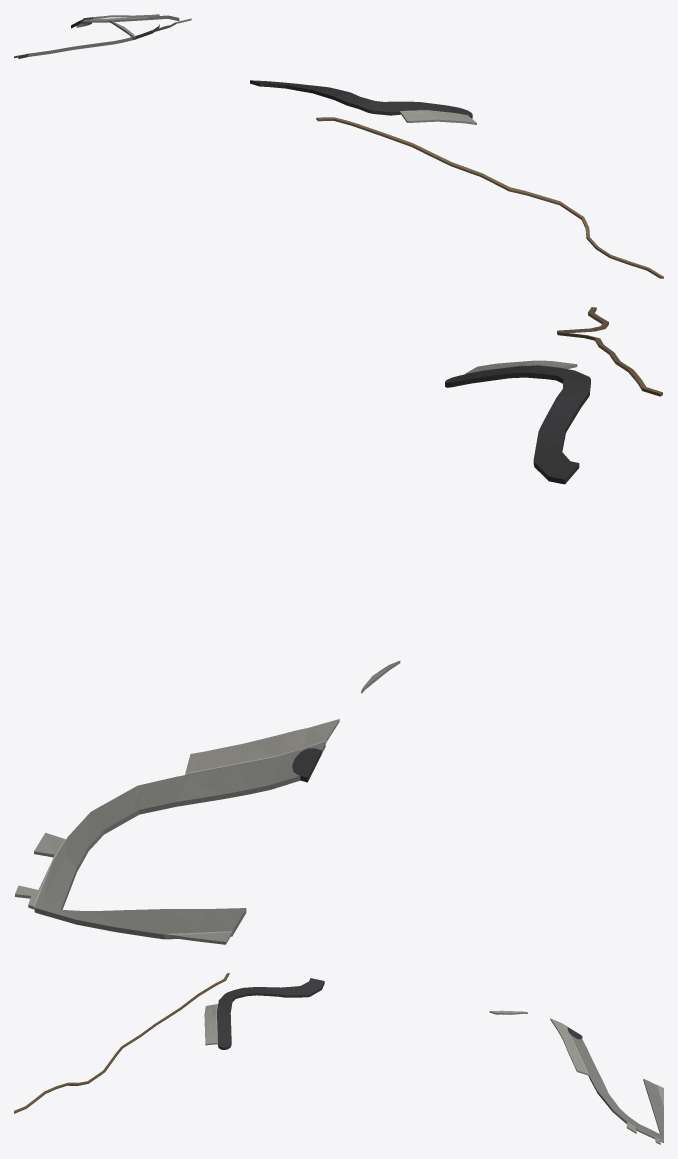
3 views of the same model, one above another, from view 1: azimuth 30°, elevation 25°; view 2: azimuth 150°, elevation 25°; view 3: azimuth 270°, elevation 25° (orthographic). The views are drawn at different scales.
Bounding box in the file's own units: 73.63 × 61.67 × 292.
